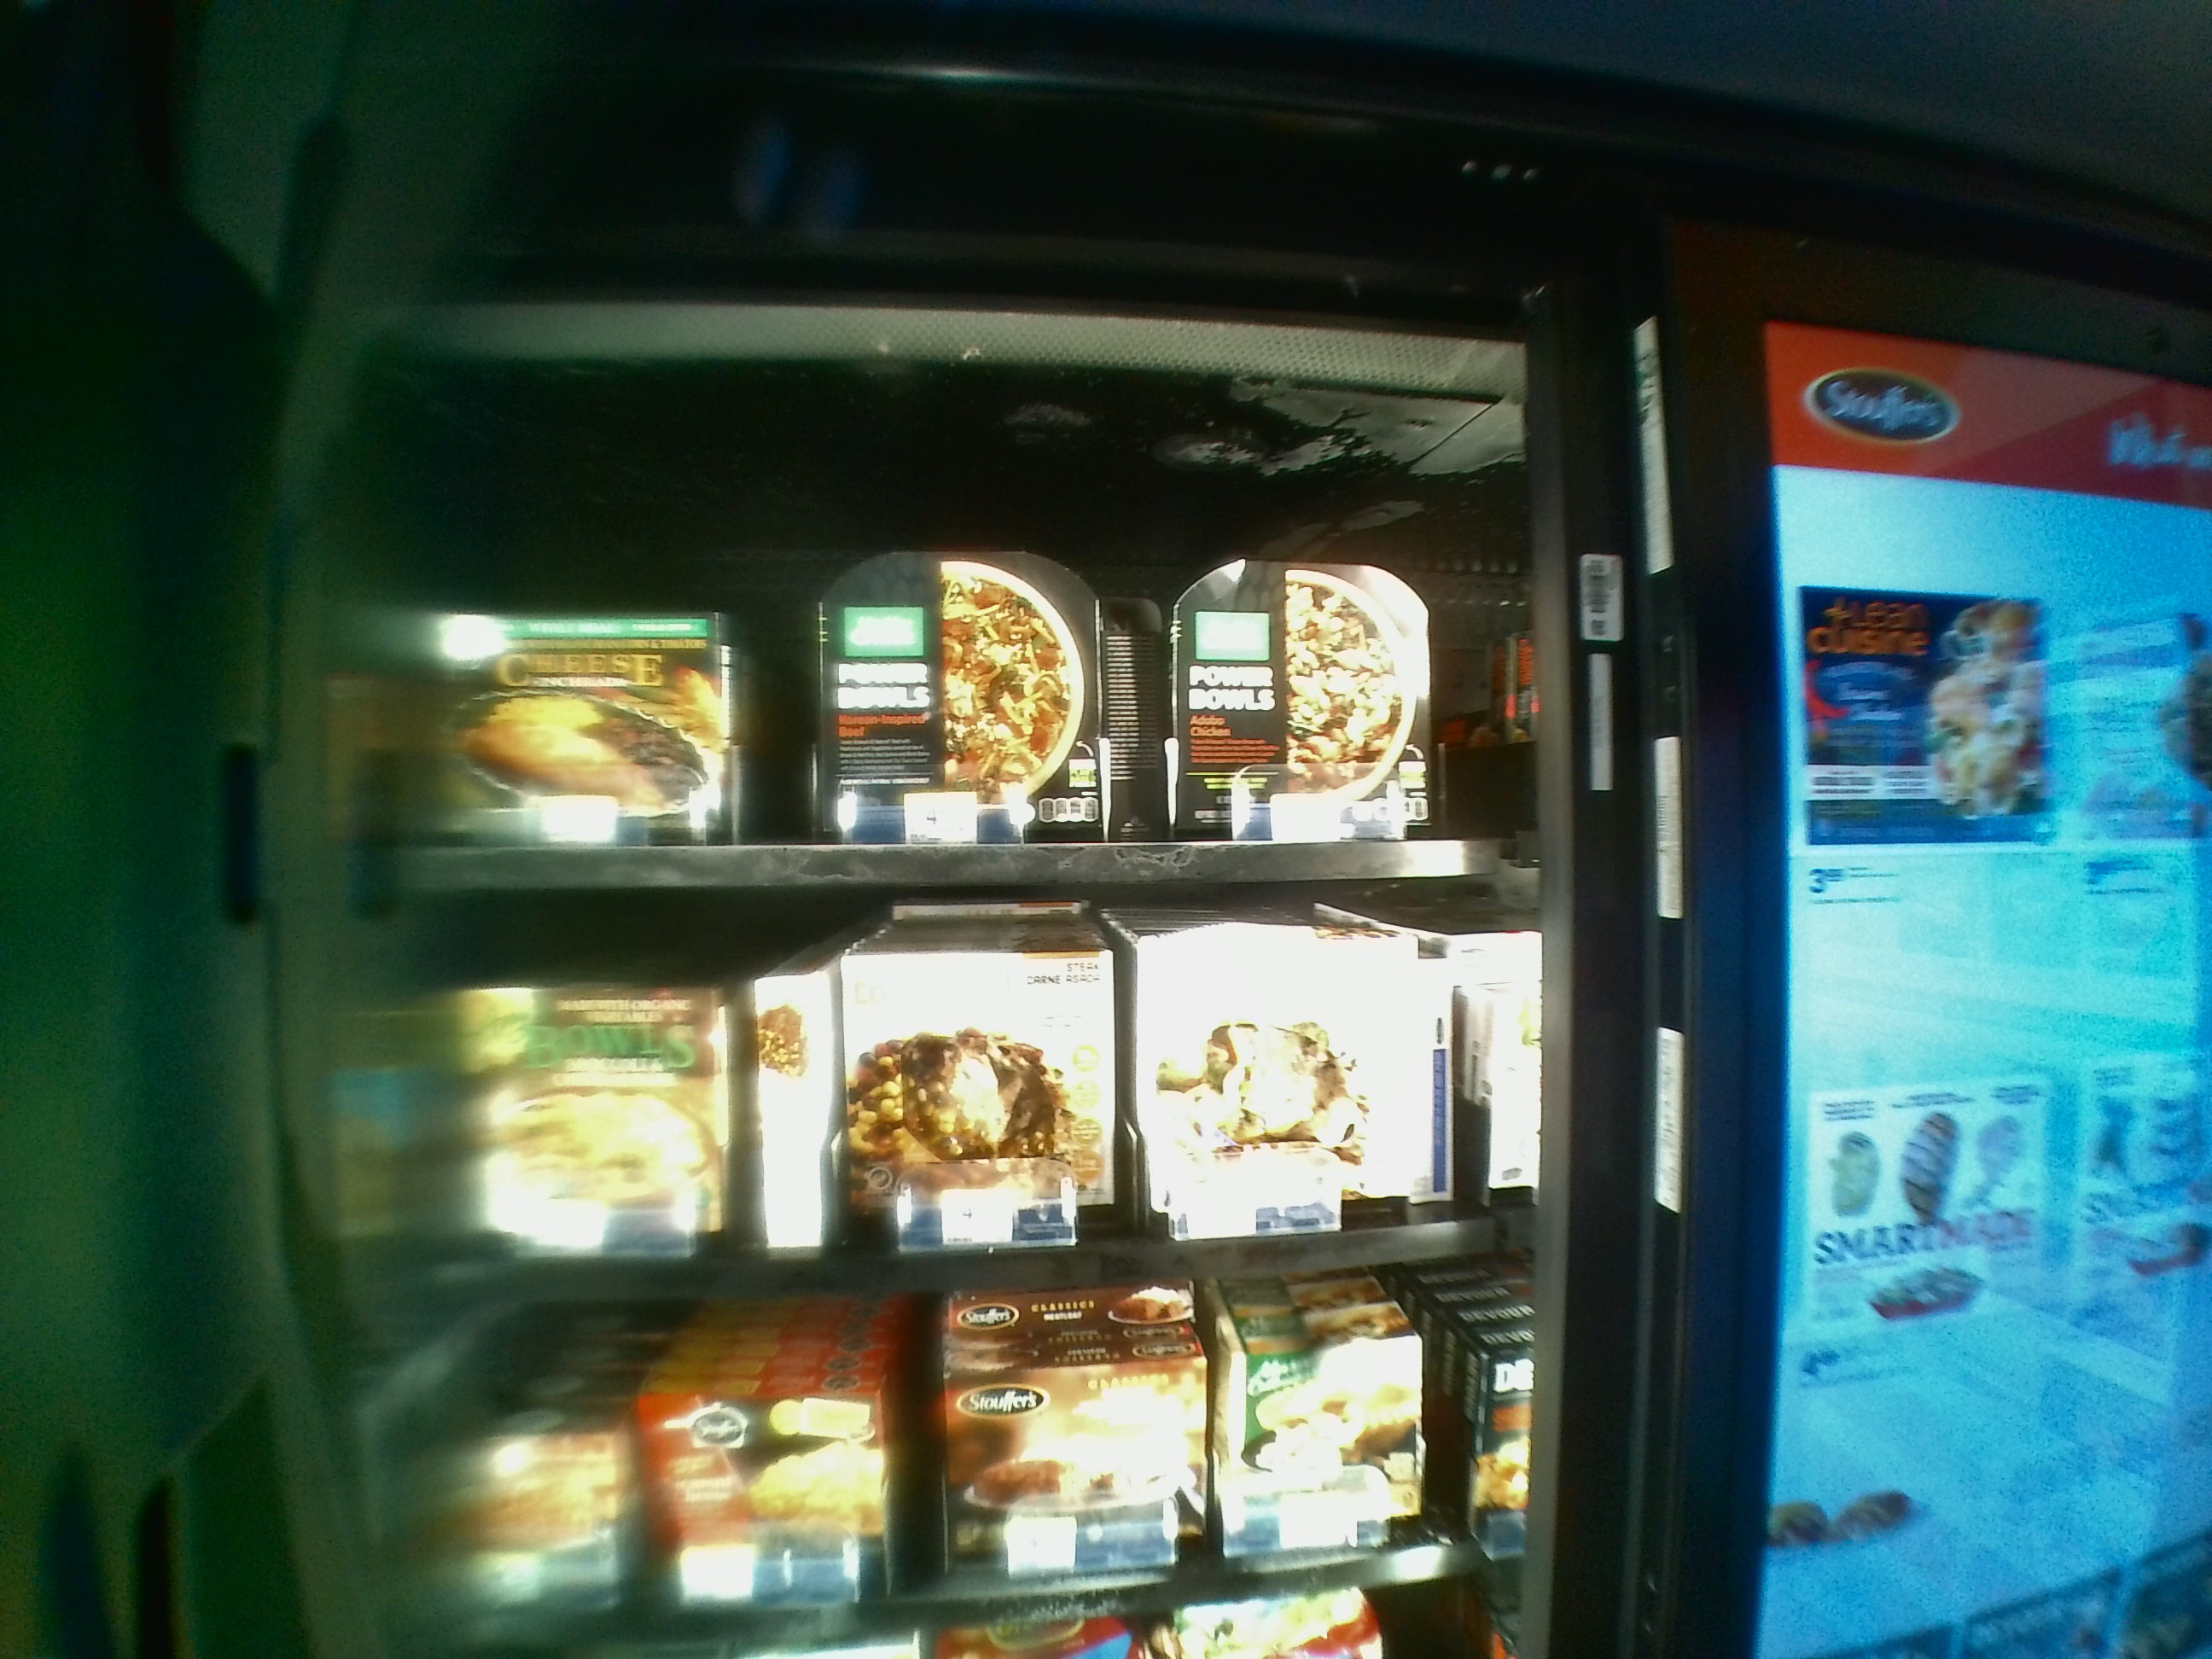shelf: (369, 397, 1521, 882), (361, 899, 1536, 1305)
